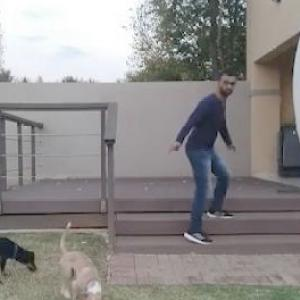land: (166, 67, 244, 242)
